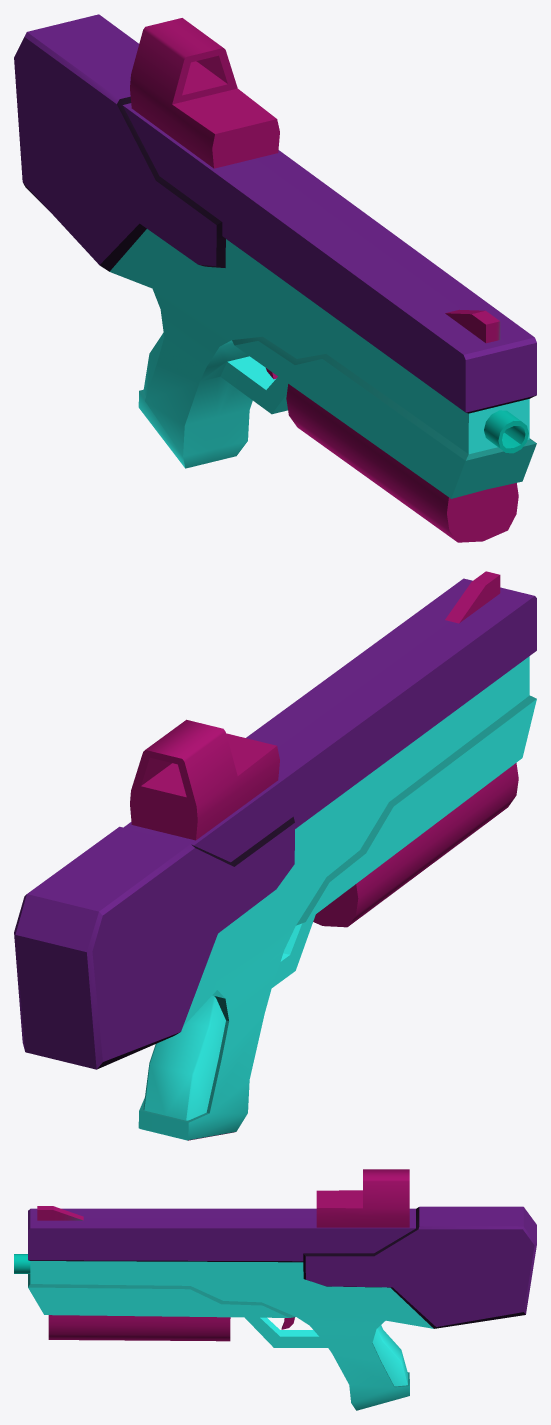
The model's file is Pistola.fbx.
3 views of the same model, one above another, from view 1: azimuth 30°, elevation 25°; view 2: azimuth 150°, elevation 25°; view 3: azimuth 270°, elevation 25° (orthographic). The views are drawn at different scales.
Visible parts, largest first — view 1: Corpo, Mira, Cartucho, Massa; view 2: Corpo, Mira, Cartucho, Massa; view 3: Corpo, Cartucho, Mira, Massa.
Part boxes in pixels (x1,y1,x2,y2): Corpo: (14,14,536,498); Mira: (130,18,279,168); Cartucho: (286,384,518,542); Massa: (445,309,500,343); Corpo: (14,578,536,1140); Mira: (130,719,279,840); Cartucho: (313,763,518,927); Massa: (445,571,500,623); Corpo: (14,1206,536,1410); Cartucho: (48,1315,230,1341); Mira: (316,1169,409,1227); Massa: (37,1206,83,1220).
Size of the model in its own units: 22.88 by 109 by 225.
Materials: 1 (1 with a texture image).
